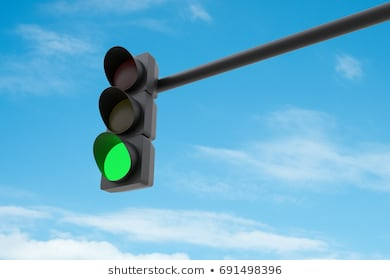traffic light: (83, 28, 173, 229)
